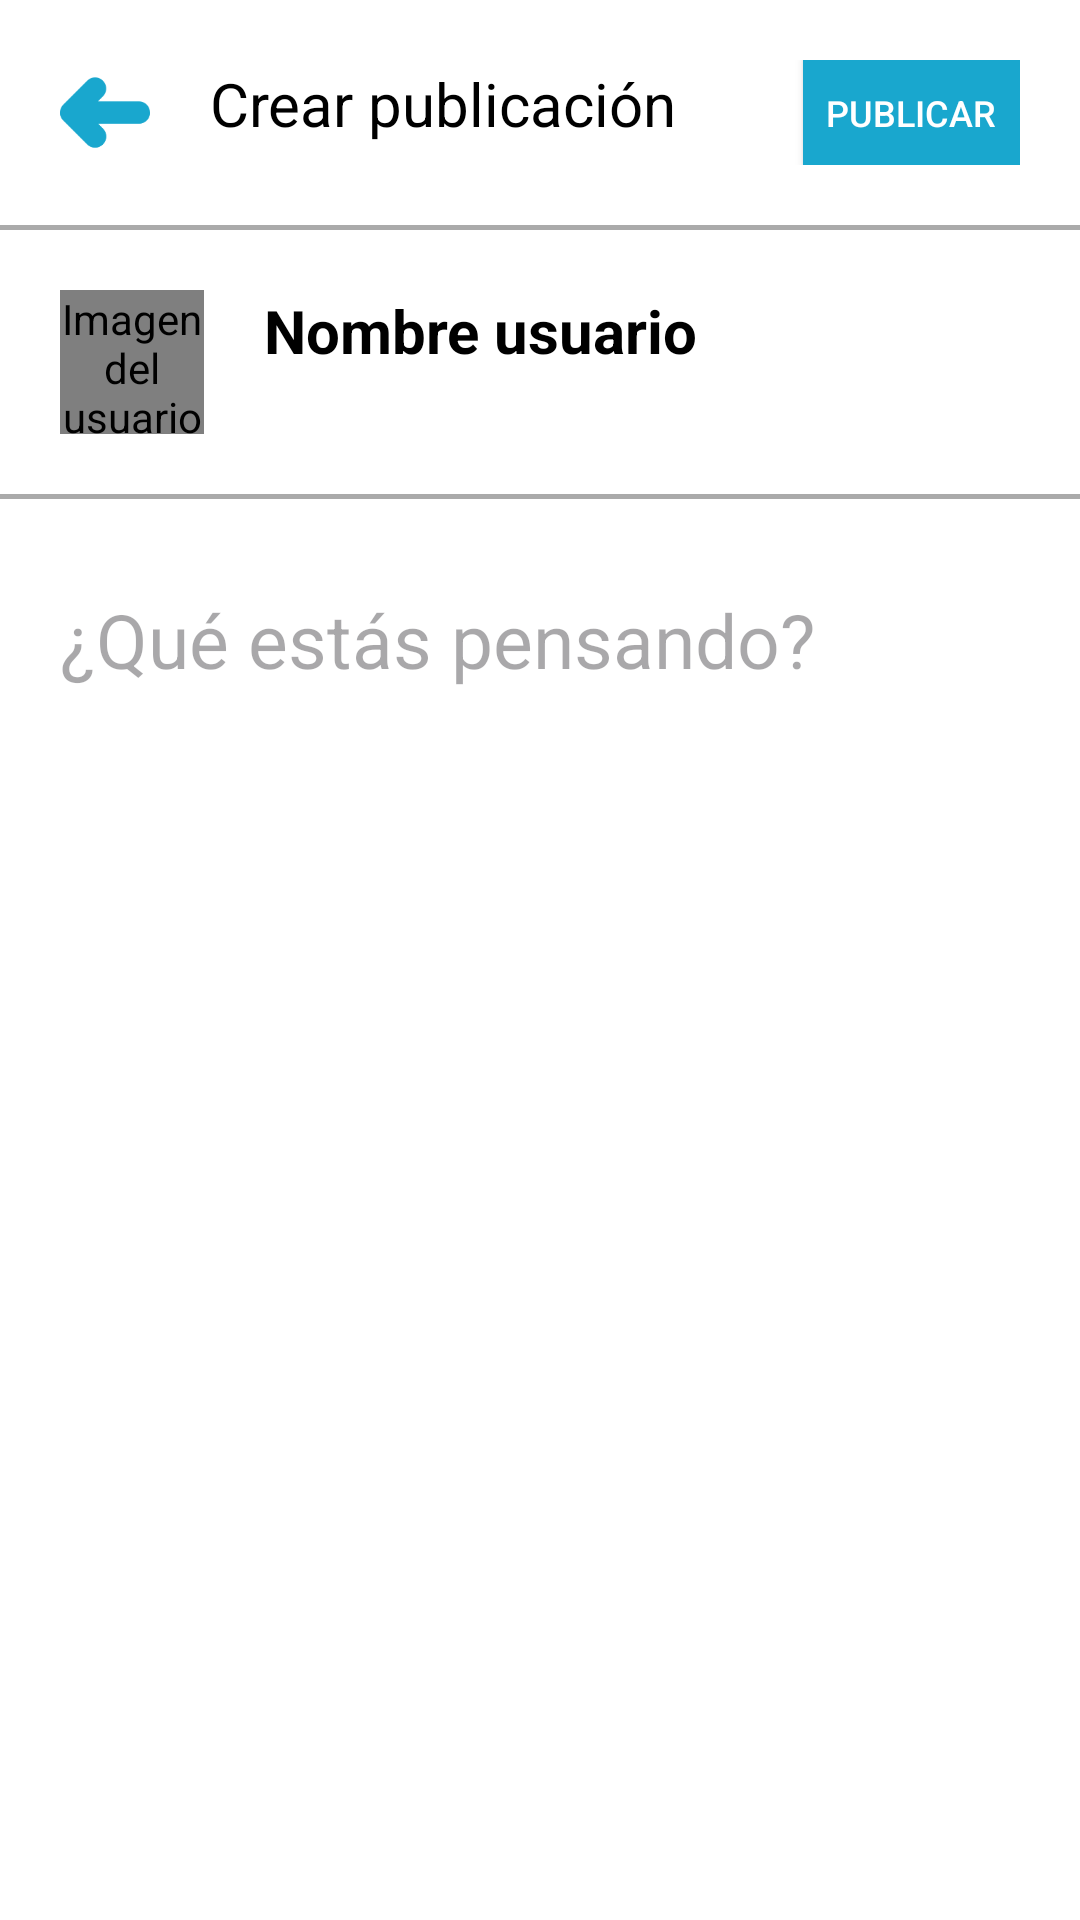

Where to tap for icons on this 1080×1920 app screen, as [x,y]:
atras: [105,112]
